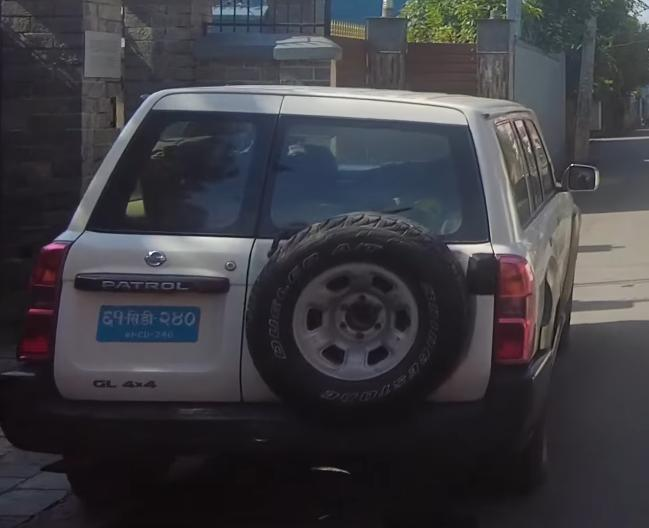SUV: (15, 70, 600, 498)
